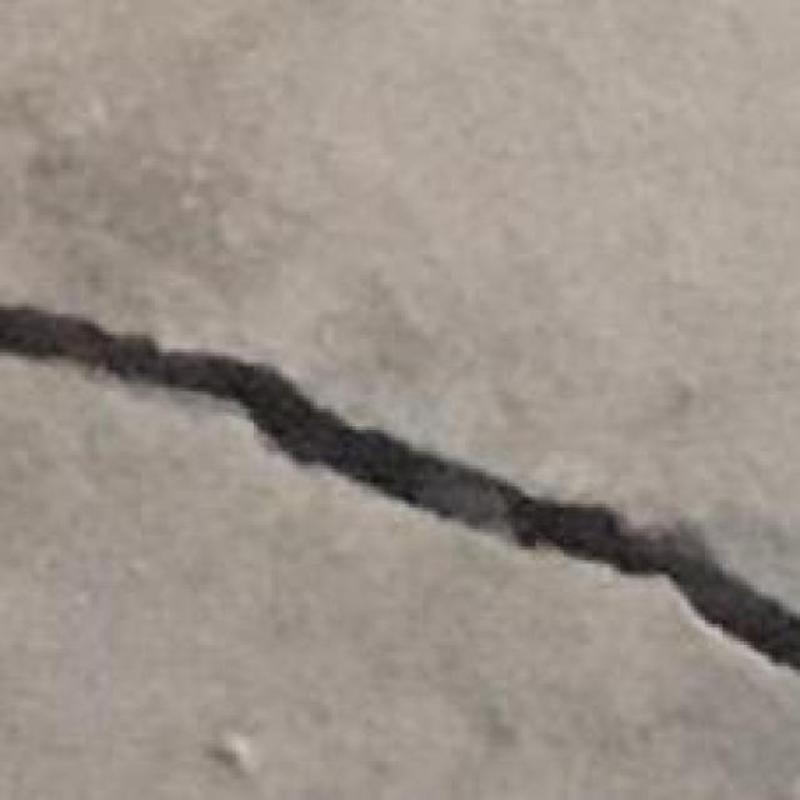crack: (0, 305, 799, 670)
